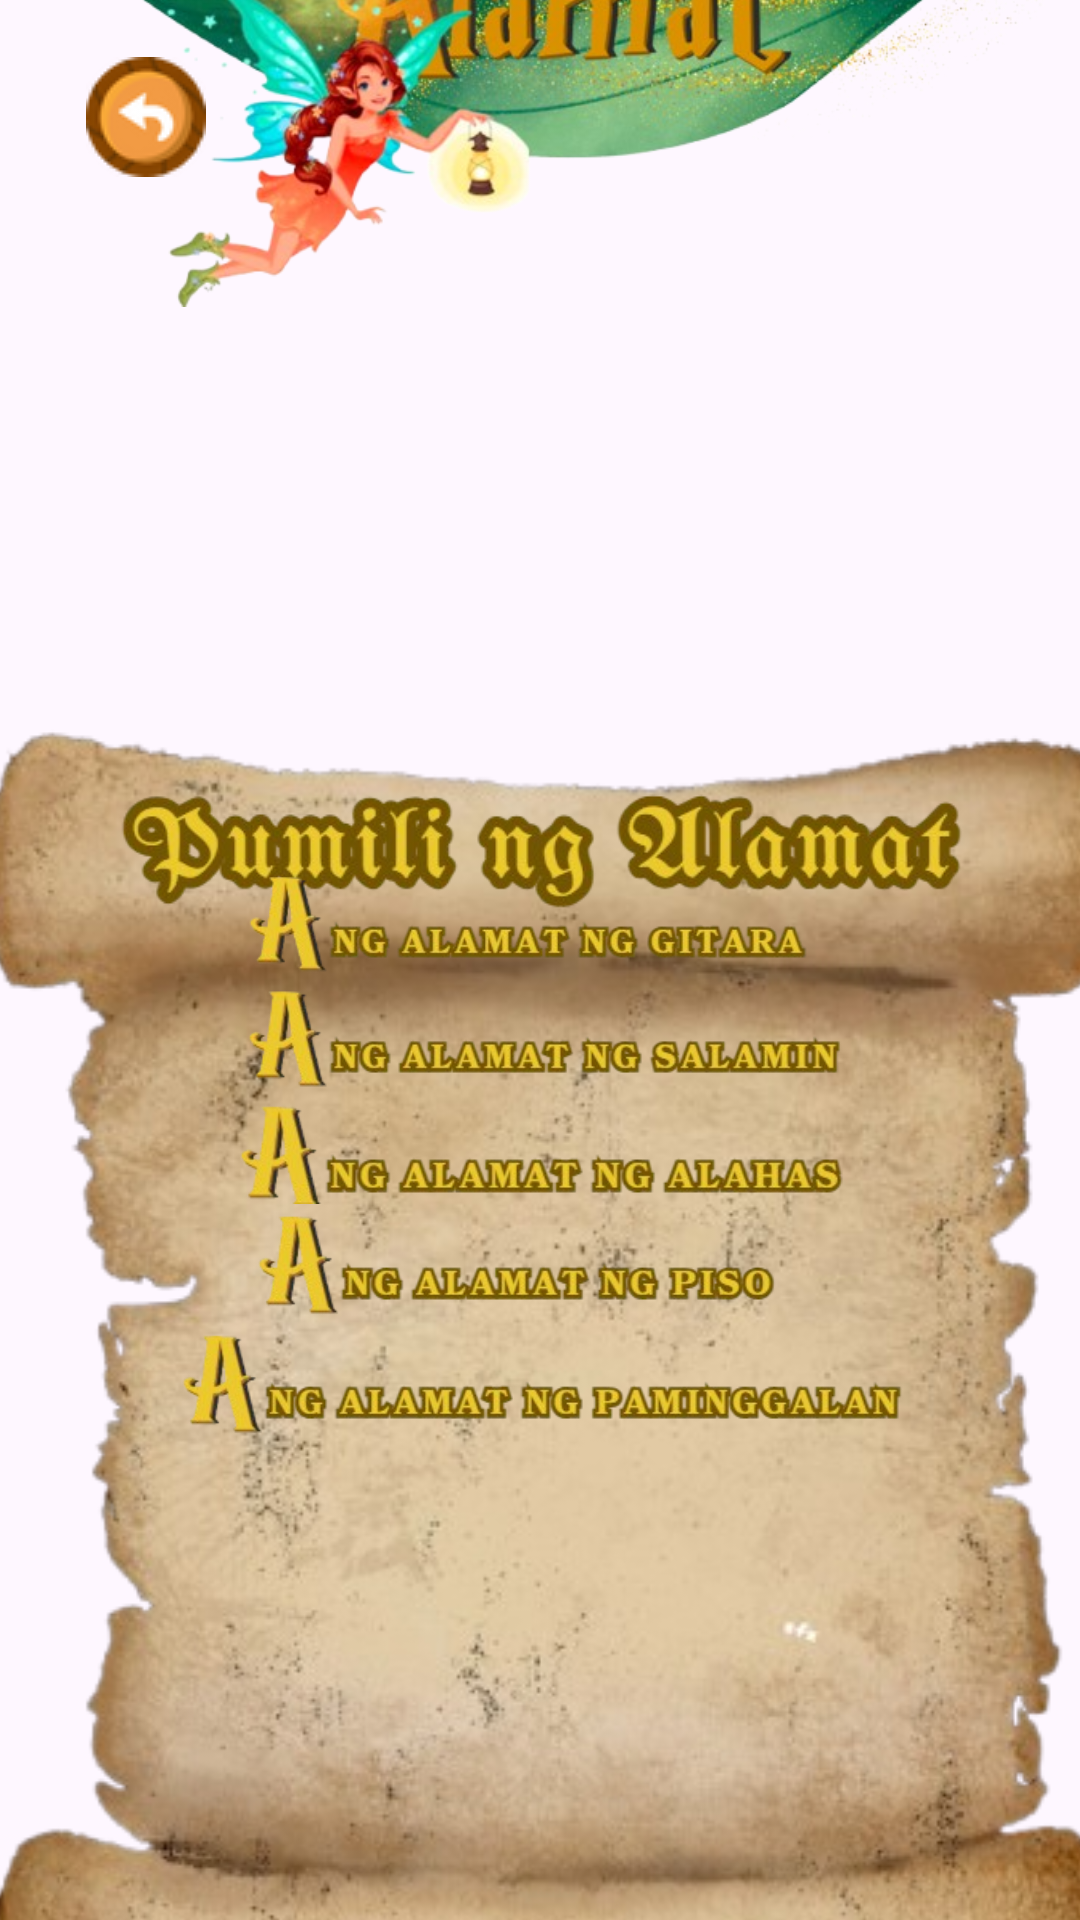

Named icons in this screenshot (1080*1920) and their centers, [x,y]:
back: [171,112]
